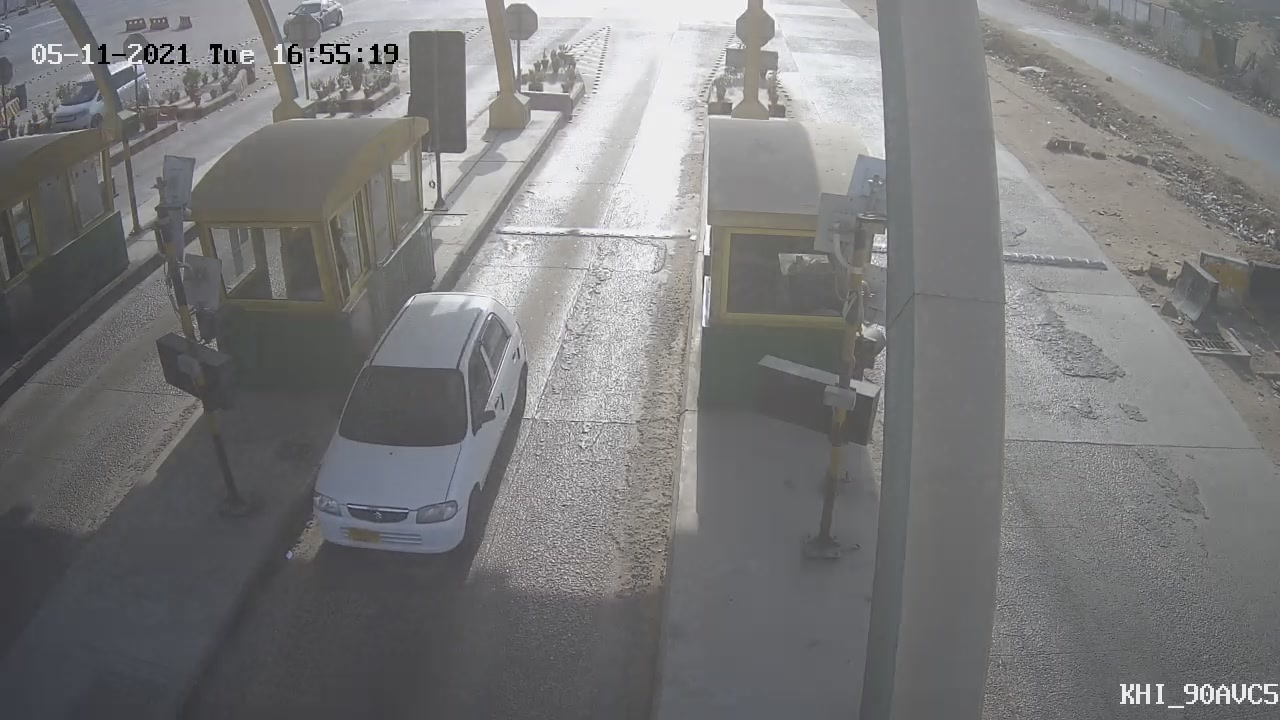F1: (278, 268, 550, 585)
